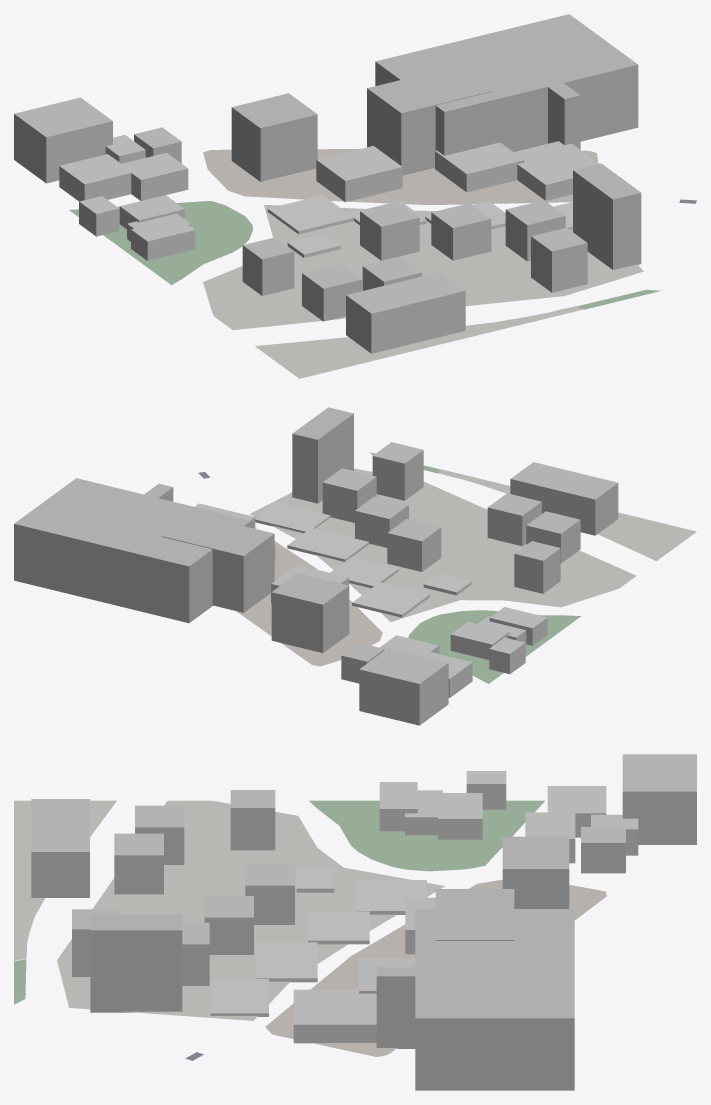
The model's file is 131_103_mid.glb.
3 renders of one model, top to bottom at view 1: azimuth 30°, elevation 25°; view 2: azimuth 150°, elevation 25°; view 3: azimuth 270°, elevation 25°, orthographic. The views are drawn at different scales.
Bounding box in the file's own units: 519 × 68.62 × 512.
